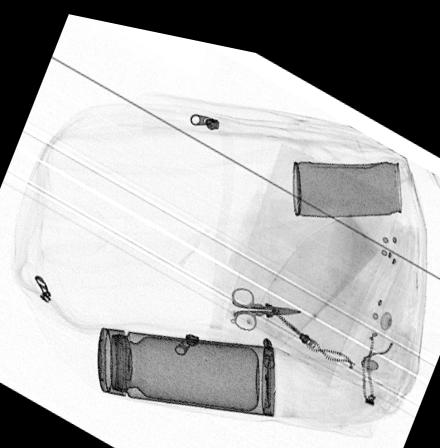Scissors: (230, 274, 305, 321)
